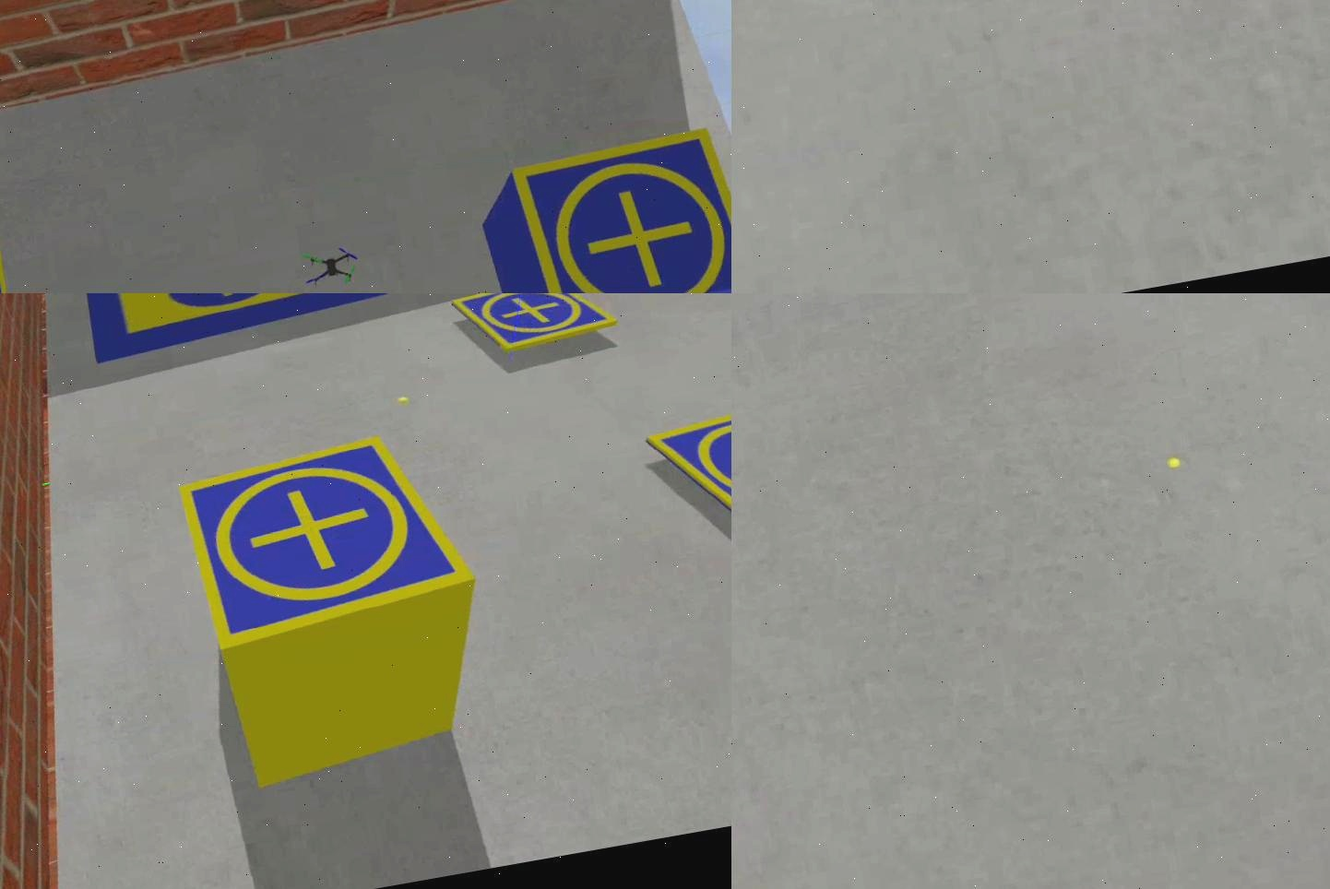large_base: (80, 293, 391, 356)
small_base: (178, 424, 475, 657), (510, 122, 731, 293), (645, 378, 731, 554), (451, 293, 622, 365)
